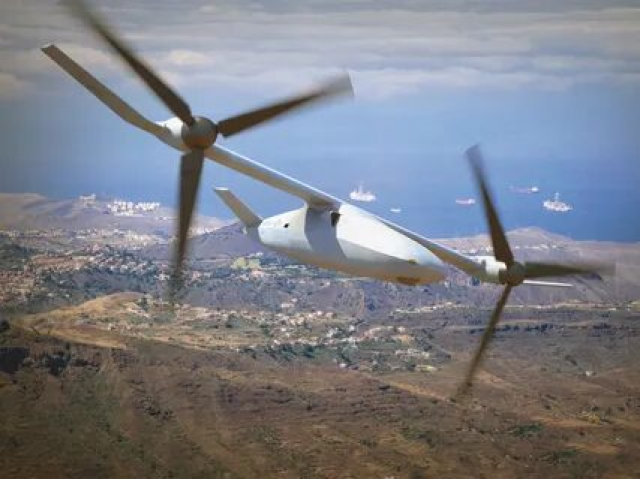military drone: (39, 0, 615, 395)
